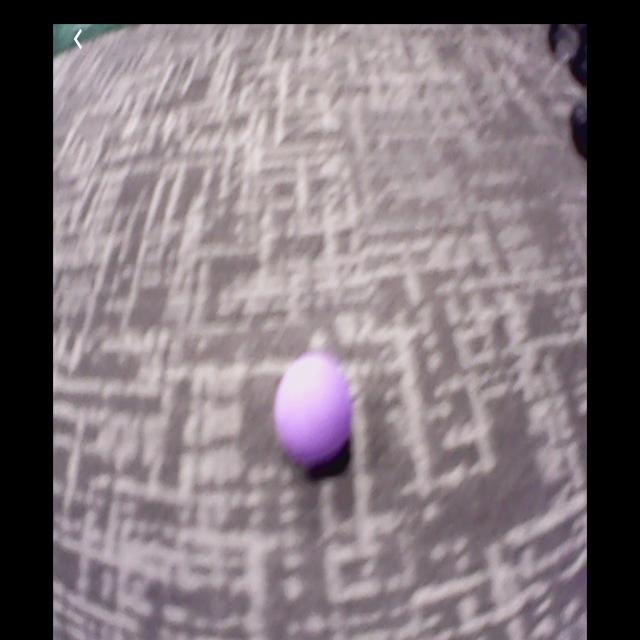ball: (277, 356, 353, 470)
